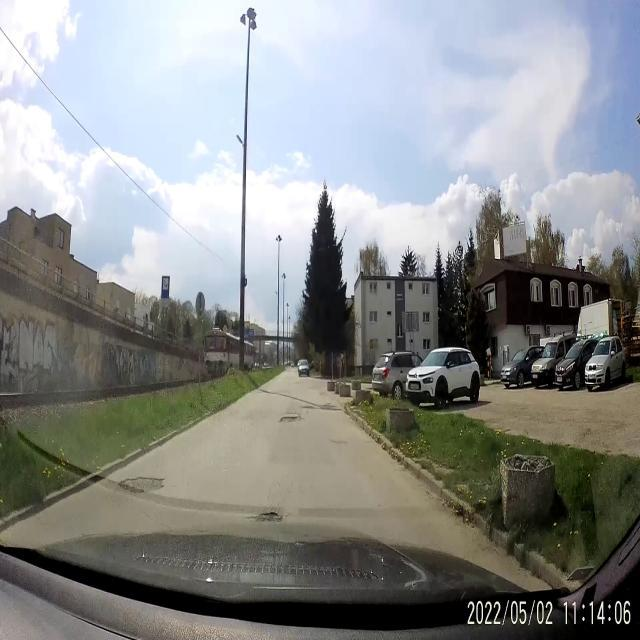Pothole: (117, 468, 168, 506), (250, 503, 284, 529), (276, 413, 304, 431)
